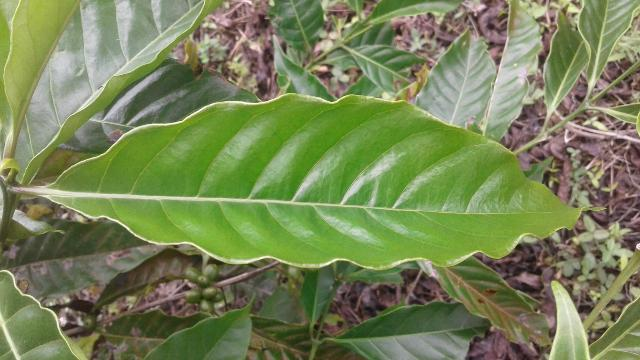healthy: (45, 93, 604, 269)
